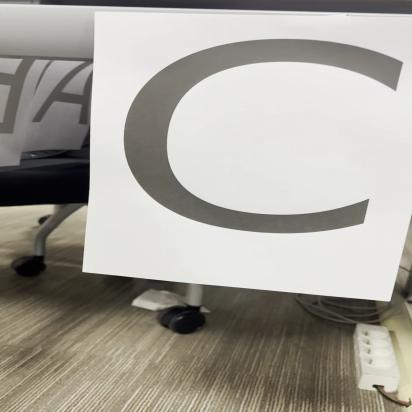seat: (80, 7, 412, 300)
